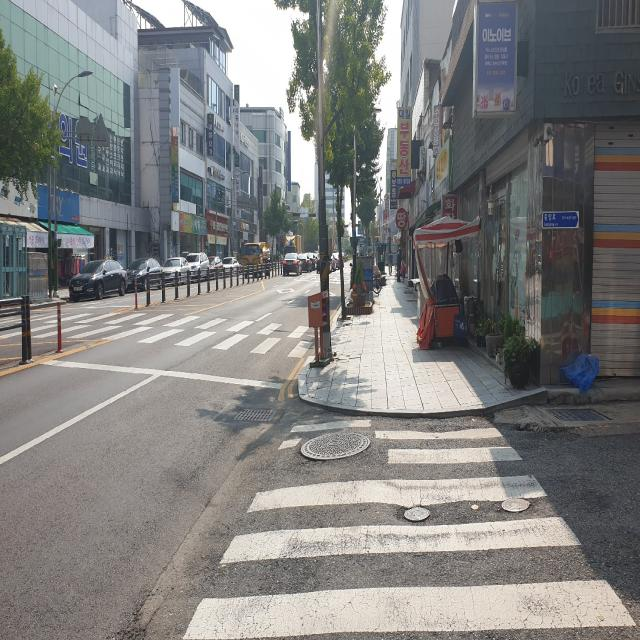횡단보도: (183, 418, 638, 640), (24, 309, 308, 364)
